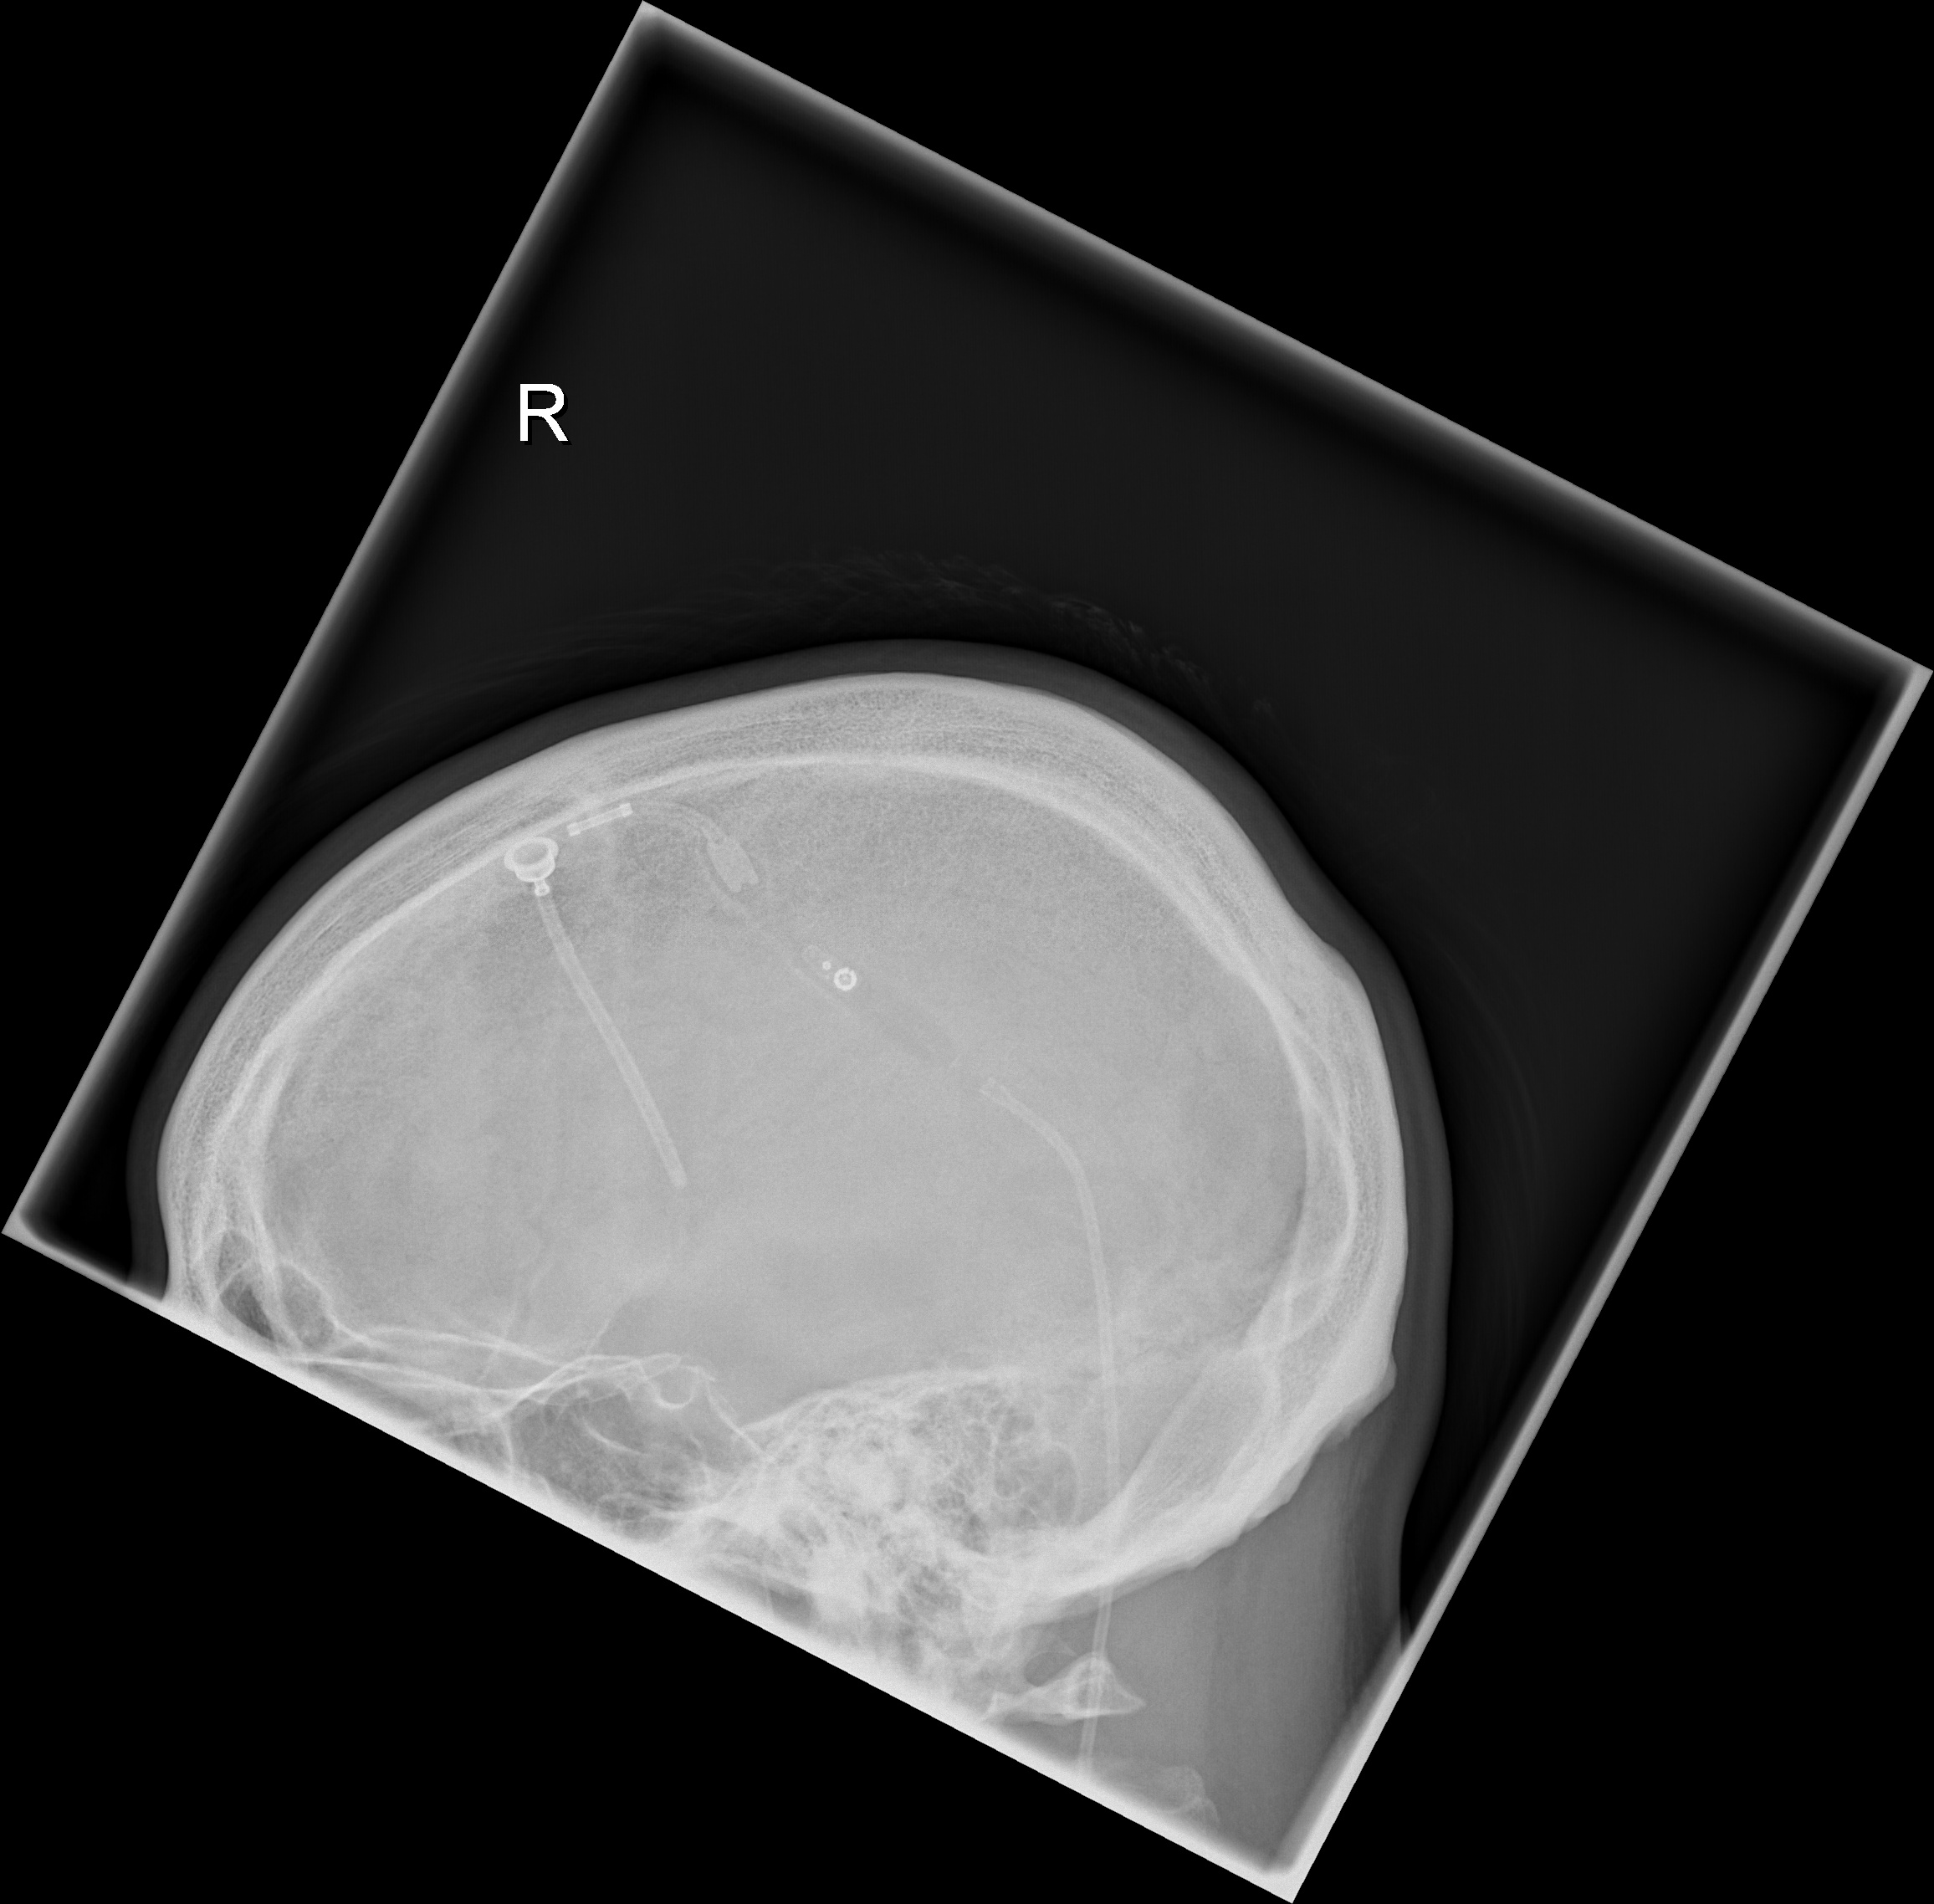Codman Hakim: (799, 938, 867, 1011)
